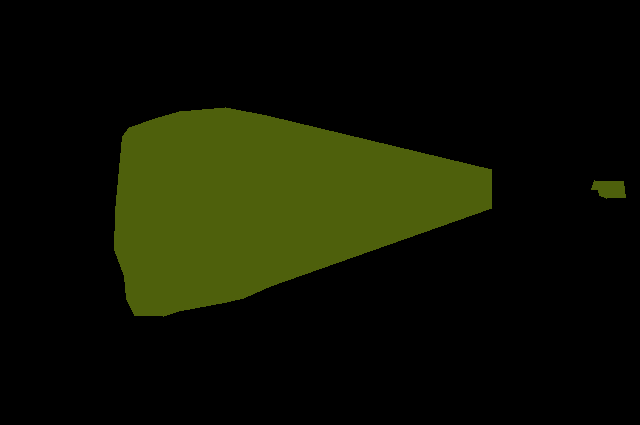Train: (114, 107, 492, 316), (591, 180, 625, 198)
